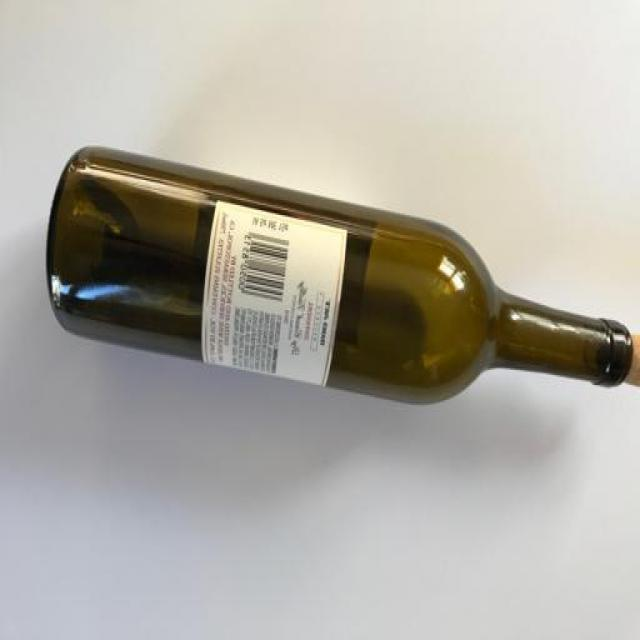glass: (41, 142, 637, 410)
